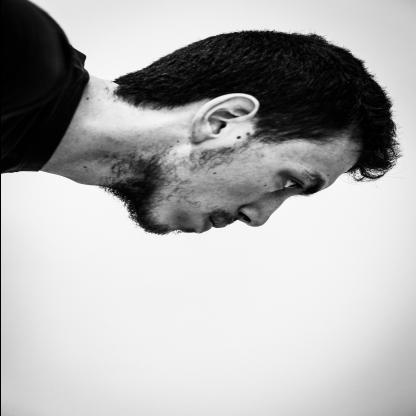Eye: (272, 172, 305, 193)
Mouth: (194, 213, 226, 234)
Nose: (235, 196, 285, 227)
